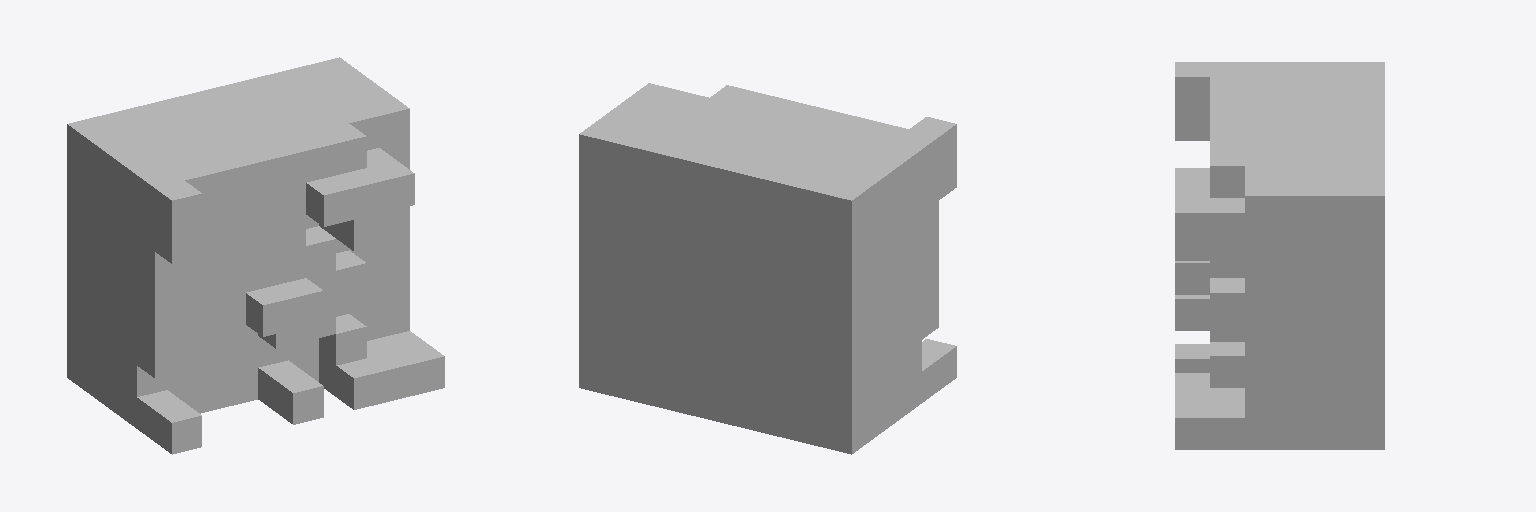
The model's file is adamantit.obj.
3 views of the same model, side by side, from view 1: azimuth 30°, elevation 25°; view 2: azimuth 150°, elevation 25°; view 3: azimuth 270°, elevation 25° (orthographic).
Size of the model in its own units: 9 by 8 by 6.